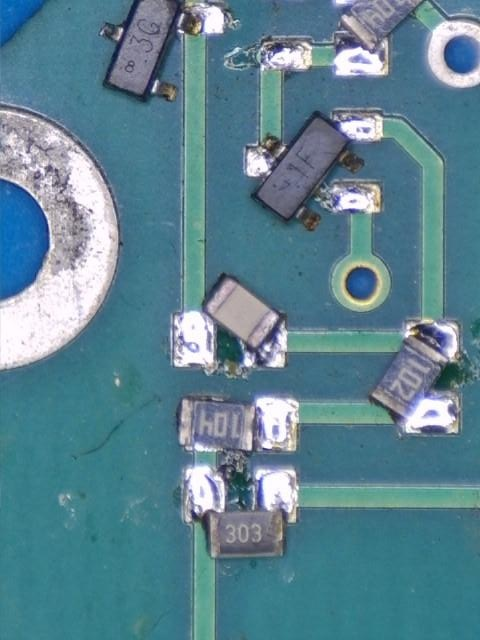pcb_defect: (243, 111, 383, 233), (97, 0, 226, 102), (171, 274, 286, 372), (368, 319, 462, 436), (183, 467, 298, 560), (333, 0, 426, 76), (178, 396, 299, 452)
